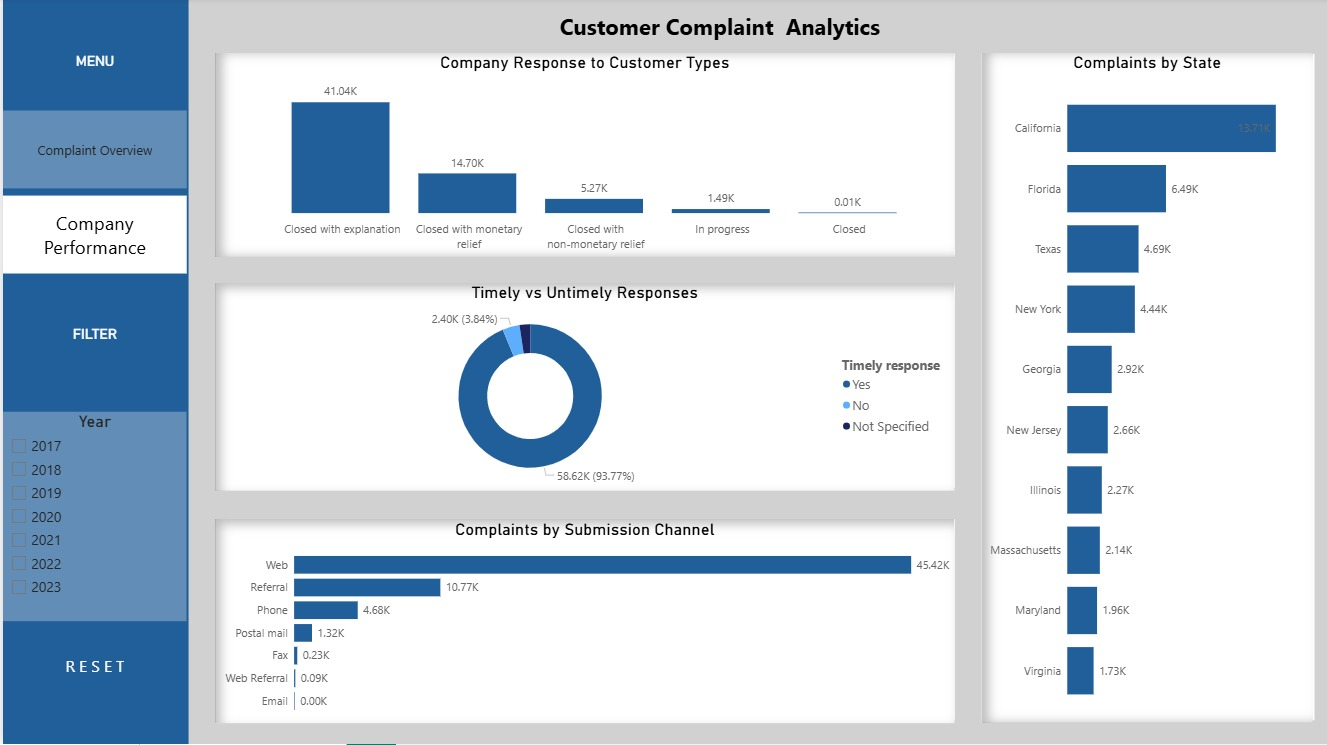

The page's visual inventory and layout, read from the dashboard file:
{"tool":"powerbi","page":{"name":"Company Performance","canvas":[1920,1080],"ordinal":1},"visuals":[{"type":"clusteredBarChart","title":"Complaints by Submission Channel","fields":{"Category":["Cleaned Data.Submitted via"],"Y":["CountNonNull(Cleaned Data.Complaint ID)"]},"box":[307.6,754.6,1069.5,295],"z":0},{"type":"donutChart","title":"Timely vs Untimely Responses","fields":{"Category":["Cleaned Data.Timely response"],"Y":["CountNonNull(Cleaned Data.Complaint ID)"]},"box":[307.6,412.6,1069.5,300.4],"z":1000},{"type":"clusteredBarChart","title":"Complaints by State","fields":{"Category":["Cleaned Data.Full State Name"],"Y":["CountNonNull(Cleaned Data.Complaint ID)"]},"box":[1417,79.6,479.6,970],"z":2000},{"type":"clusteredColumnChart","title":"Company Response to Customer Types","fields":{"Category":["Cleaned Data.Company response to consumer"],"Y":["CountNonNull(Cleaned Data.Company response to consumer)"]},"box":[307.6,79.6,1069.5,295],"z":3000},{"type":"textbox","box":[754.6,14.5,566.4,85.1],"z":4000},{"type":"pageNavigator","box":[0,162.9,266,237.1],"z":5000},{"type":"slicer","title":"Year","fields":{"Values":["Cleaned Data.Date submitted.Variation.Date Hierarchy.Year"]},"box":[0,598.2,265.6,303.3],"z":6000},{"type":"textbox","title":"MENU","box":[0,79.6,266,63.3],"z":7000},{"type":"textbox","title":"FILTER","box":[0,474.8,265.6,64.8],"z":8000},{"type":"actionButton","box":[83.2,946.5,99.5,39.8],"z":9000}]}

Visuals, with their boxes in screenshot pixels (x1, y1, x2, y2), scaled from the page's 1920x1080 canvas onto the 1327x745 screenshot:
"Complaints by Submission Channel" clusteredBarChart: <region>213, 521, 952, 724</region>
"Timely vs Untimely Responses" donutChart: <region>213, 285, 952, 492</region>
"Complaints by State" clusteredBarChart: <region>979, 55, 1311, 724</region>
"Company Response to Customer Types" clusteredColumnChart: <region>213, 55, 952, 258</region>
textbox: <region>522, 10, 913, 69</region>
pageNavigator: <region>0, 112, 184, 276</region>
"Year" slicer: <region>0, 413, 184, 622</region>
"MENU" textbox: <region>0, 55, 184, 99</region>
"FILTER" textbox: <region>0, 328, 184, 372</region>
actionButton: <region>58, 653, 126, 680</region>
